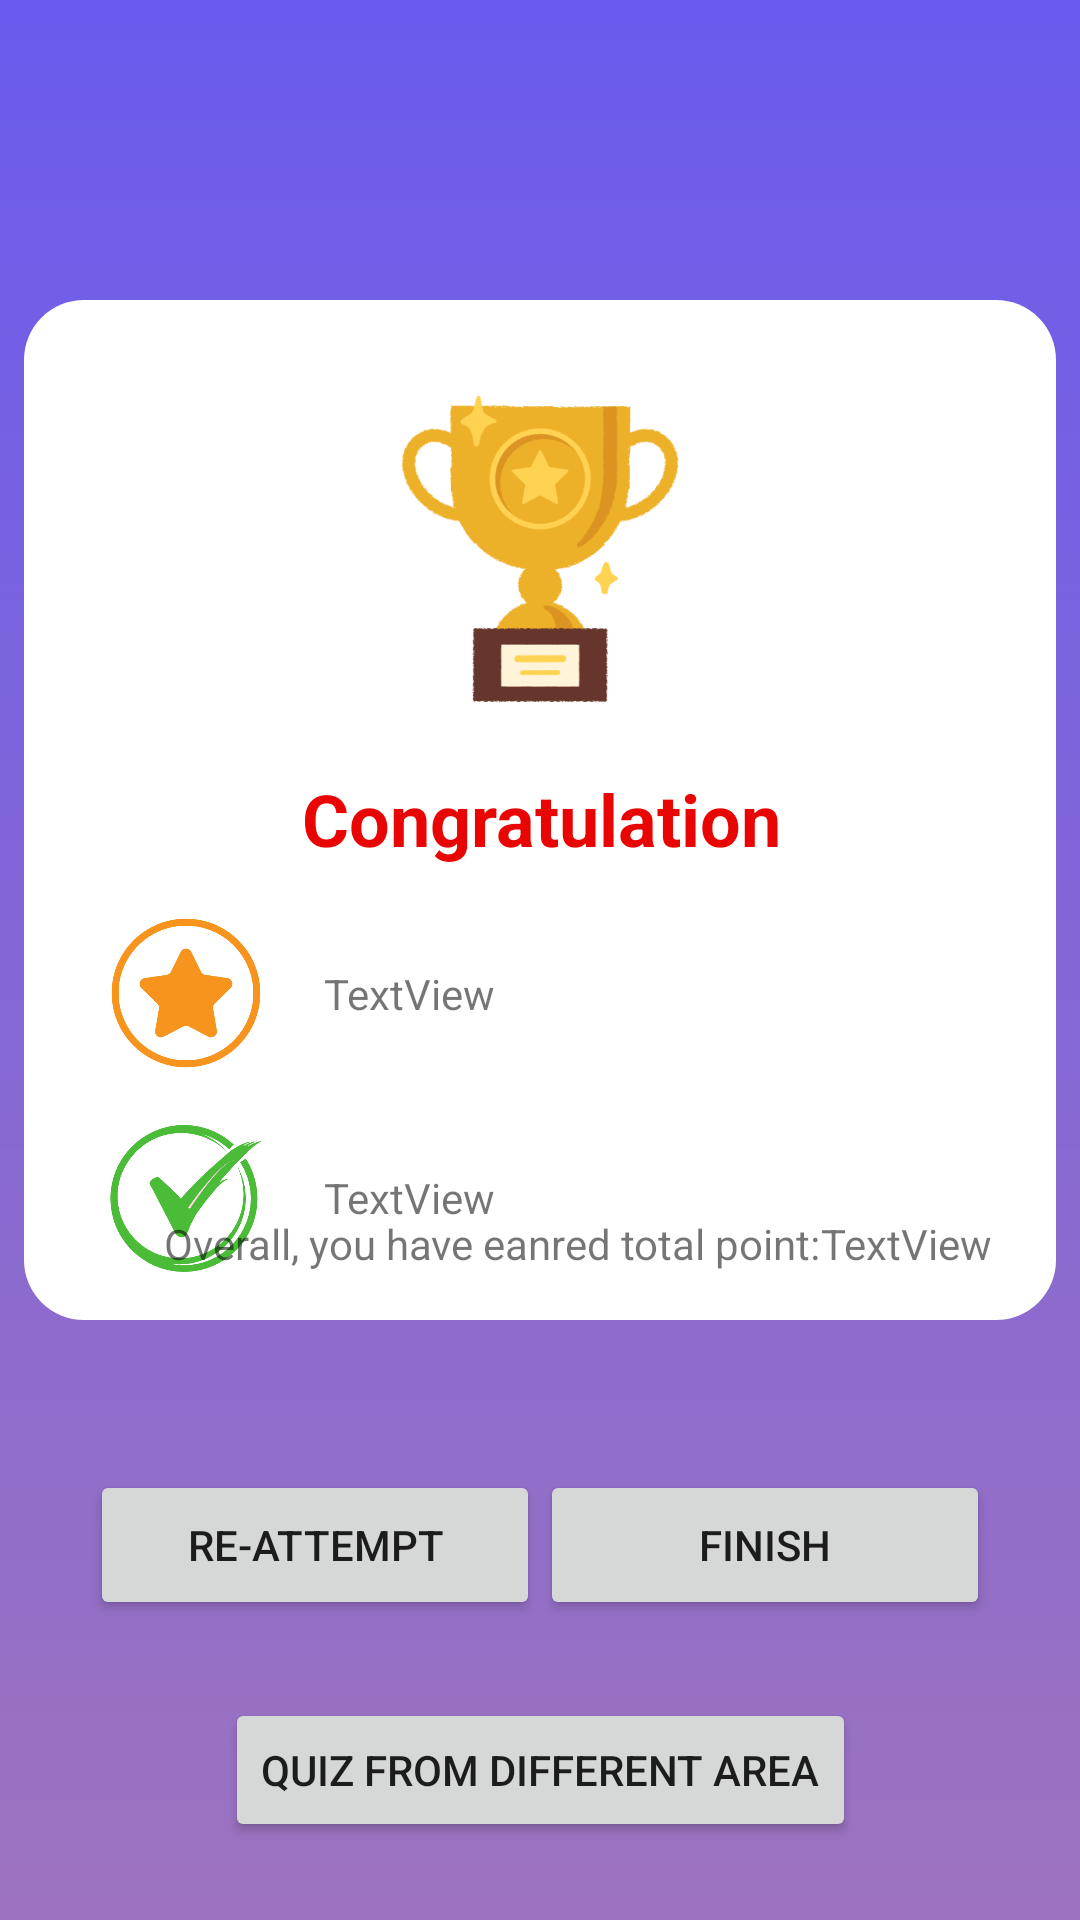

Icon click points for this 1080px x 1920px phone screenshot, format point (x, y):
correct: point (193, 1198)
star: point (186, 993)
trophy: point (540, 549)
